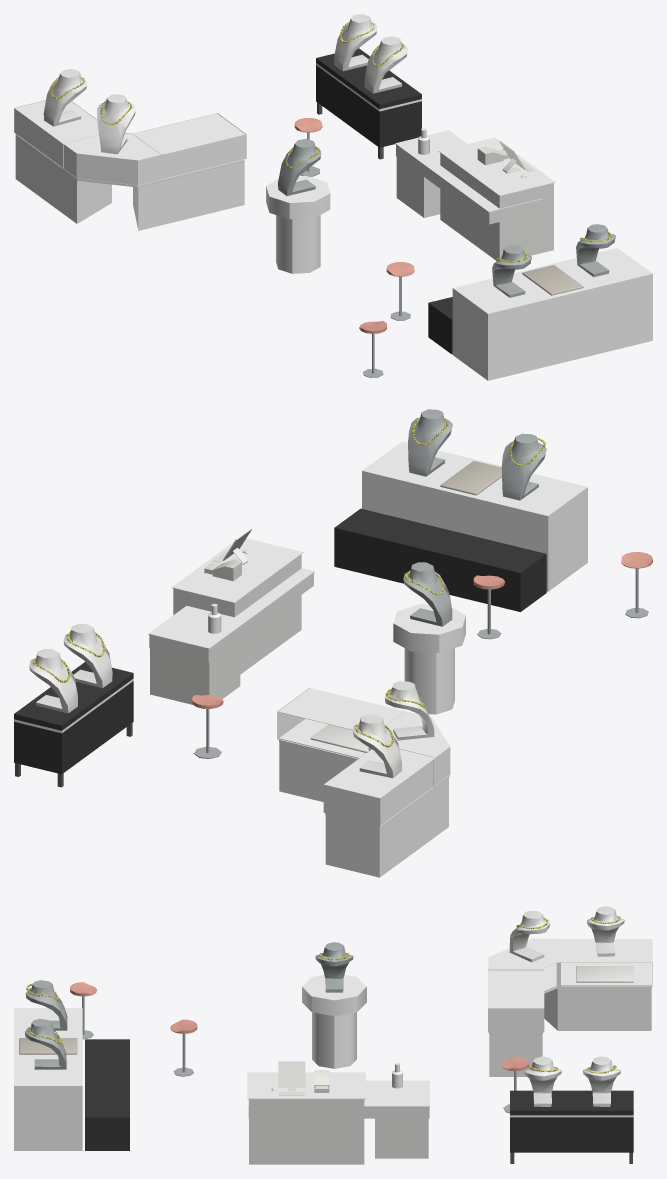
The picture shows the model from 3 angles, top to bottom: view 1: azimuth 30°, elevation 25°; view 2: azimuth 150°, elevation 25°; view 3: azimuth 270°, elevation 25°; orthographic projection. The views are drawn at different scales.
Parts seen in each view (by area): view 1: 1, 3, 2; view 2: 1, 3, 2; view 3: 1, 2, 3.
Boxes of the visible parts, box(x1,y1,x2,y2) form: 1: box(14, 14, 421, 230); 3: box(359, 224, 652, 380); 2: box(266, 128, 555, 273); 1: box(14, 624, 450, 877); 3: box(334, 409, 652, 639); 2: box(148, 528, 465, 714); 1: box(488, 906, 652, 1163); 2: box(247, 942, 429, 1164); 3: box(14, 980, 197, 1150).
Size of the model in its own units: 445 by 159 by 757.
